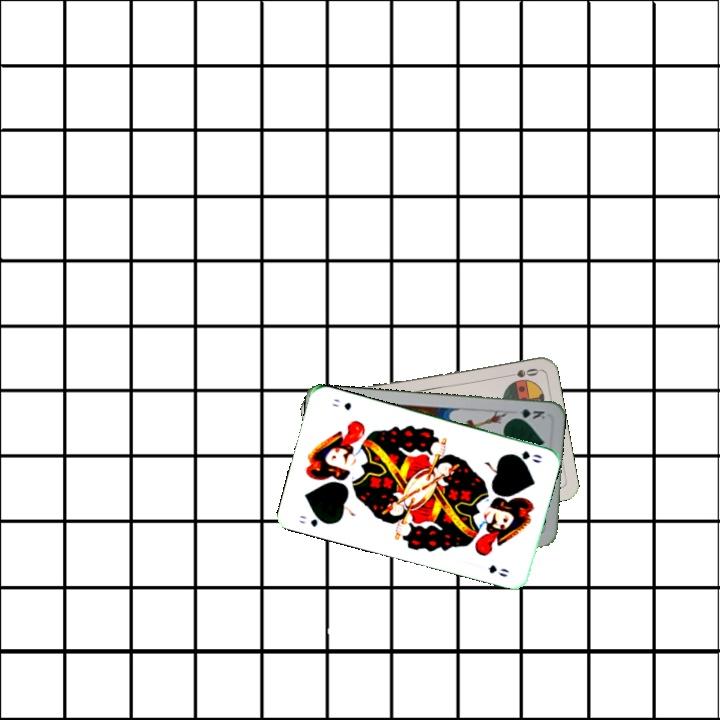GK: (508, 404, 547, 422)
GO: (504, 447, 544, 466), (295, 511, 332, 530)
SO: (501, 364, 542, 380)
